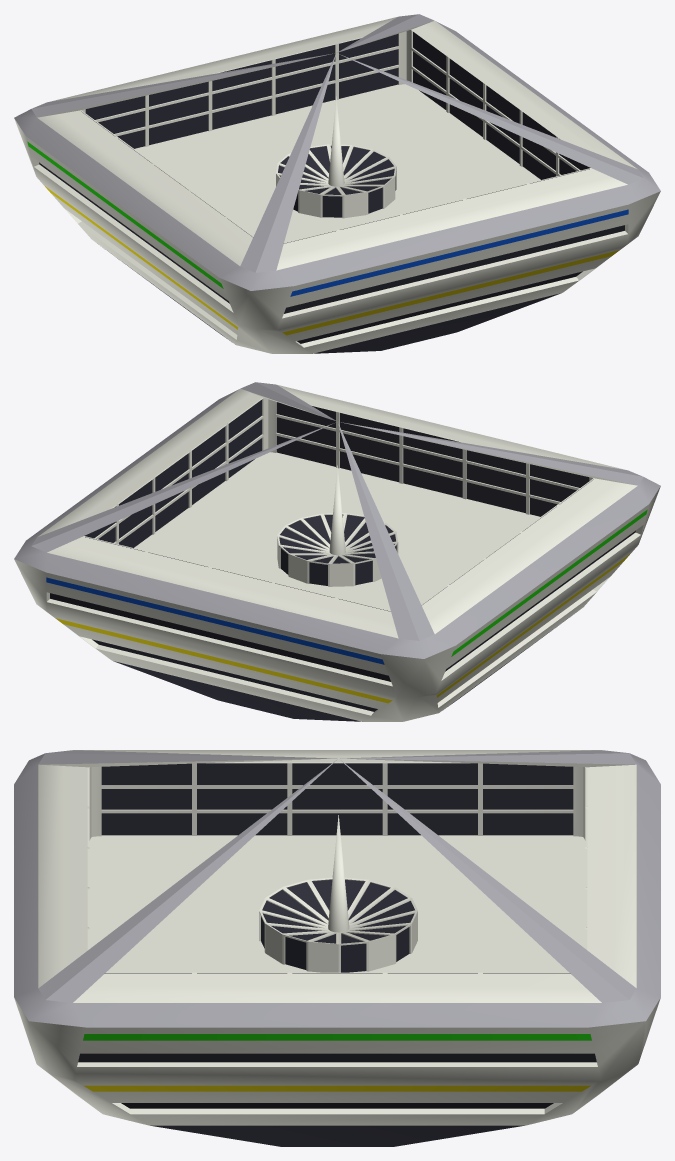
Rendered from LiteCentre.FBX.
The picture shows the model from 3 angles, top to bottom: view 1: azimuth 30°, elevation 25°; view 2: azimuth 150°, elevation 25°; view 3: azimuth 270°, elevation 25°; orthographic projection. The views are drawn at different scales.
Parts seen in each view (by area): view 1: LiteCentre; view 2: LiteCentre; view 3: LiteCentre.
Part boxes in pixels (bbox=[...]): LiteCentre: bbox=[14, 14, 660, 353]; LiteCentre: bbox=[14, 382, 660, 721]; LiteCentre: bbox=[14, 750, 660, 1146].
Bounding box in the file's own units: 252 × 128 × 252.
